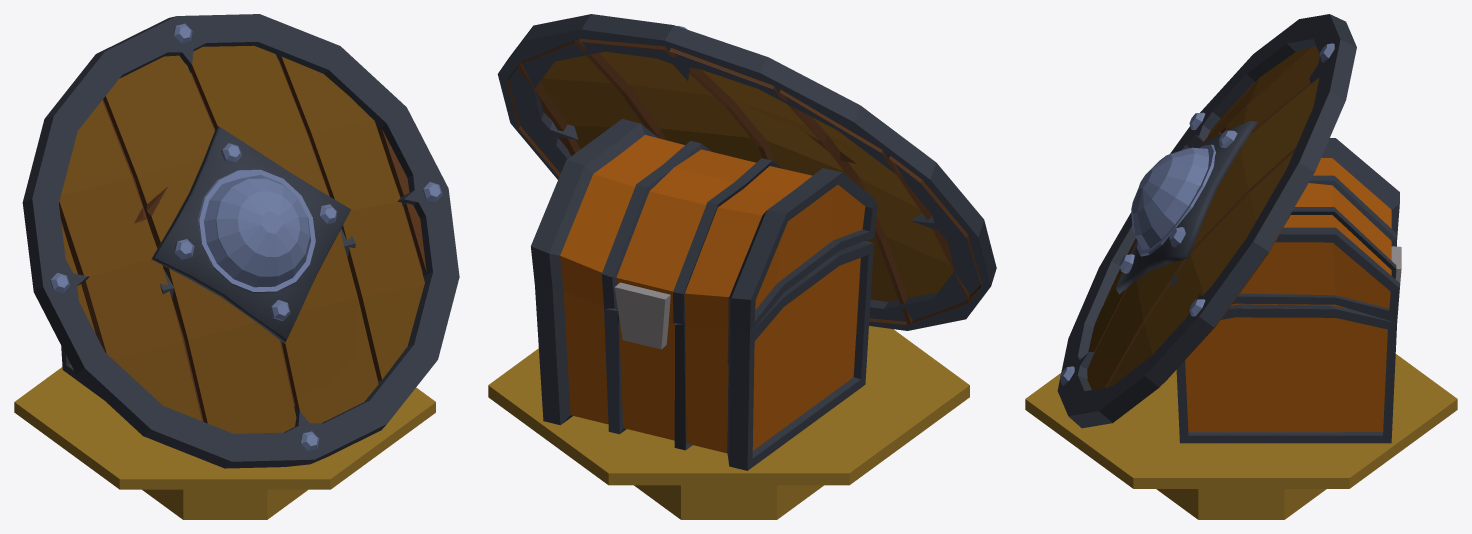
The model's file is baoxianzhuan.fbx.
3 views of the same model, side by side, from view 1: azimuth 30°, elevation 25°; view 2: azimuth 150°, elevation 25°; view 3: azimuth 270°, elevation 25° (orthographic). The views are drawn at different scales.
Visible parts, largest first — view 1: 立方体.018; view 2: 立方体.018; view 3: 立方体.018.
Part boxes in pixels (<box>): 立方体.018: <box>14,14,459,519</box>; 立方体.018: <box>488,14,996,519</box>; 立方体.018: <box>1025,14,1457,519</box>.
Size of the model in its own units: 202 by 206 by 180.
Materials: 1 (1 with a texture image).
